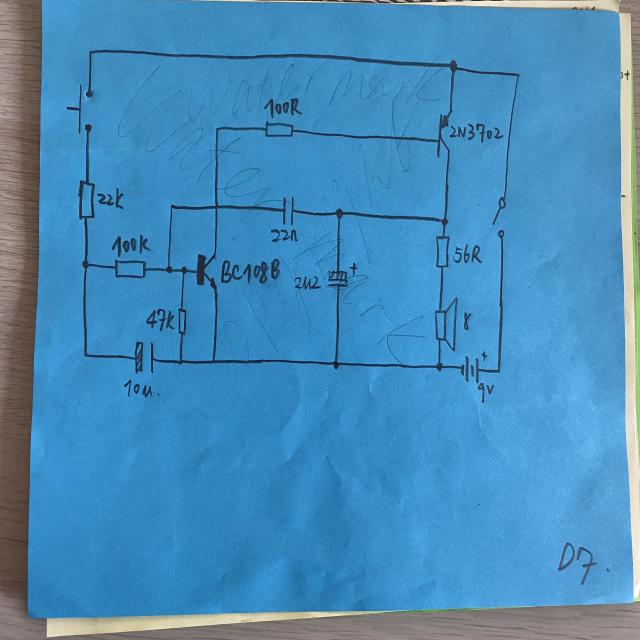capacitor: (326, 262, 358, 291), (132, 339, 156, 375), (280, 195, 296, 226)
crossover: (213, 202, 220, 211)
junction: (448, 58, 458, 73), (334, 207, 345, 220), (331, 357, 341, 371), (434, 360, 444, 373), (81, 258, 90, 270), (440, 216, 449, 227), (165, 264, 174, 275), (176, 356, 185, 367), (180, 265, 188, 276), (495, 366, 503, 376), (514, 70, 522, 80), (87, 48, 94, 58), (210, 356, 217, 366), (168, 202, 175, 212), (82, 350, 89, 359), (214, 125, 220, 133)
resistor: (75, 179, 97, 224), (111, 257, 149, 280), (434, 233, 450, 270), (263, 120, 294, 139), (176, 306, 188, 336)
source: (460, 350, 488, 386)
switch: (65, 82, 94, 136), (489, 193, 511, 243)
text: (220, 258, 282, 285), (450, 122, 505, 142), (110, 234, 151, 257), (263, 97, 303, 119), (145, 308, 175, 332), (123, 379, 157, 399), (453, 242, 482, 265), (96, 188, 125, 209), (269, 227, 299, 244), (293, 274, 321, 292), (476, 380, 496, 404), (462, 310, 472, 332), (621, 68, 630, 83)
transistor: (432, 109, 456, 159), (193, 249, 220, 292)
